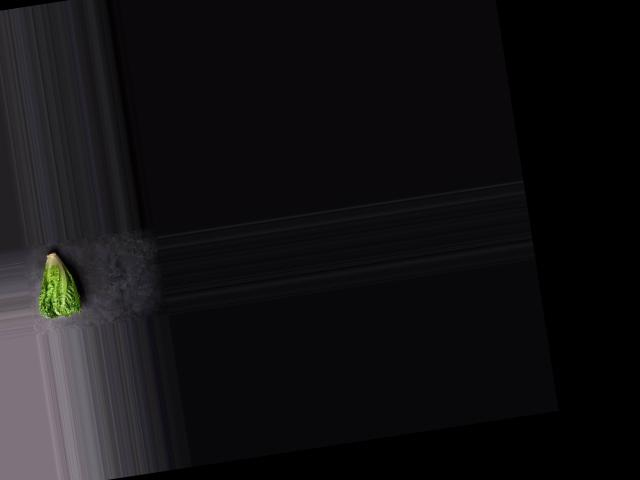lettuce: (28, 244, 85, 320)
